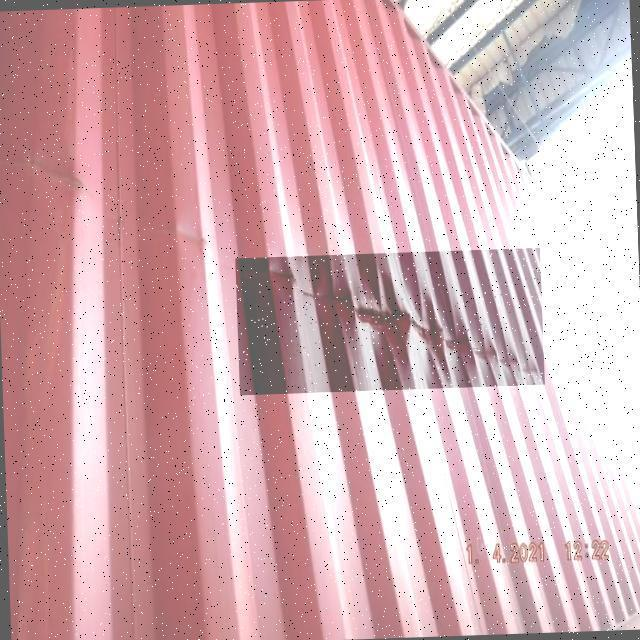dent: (236, 248, 546, 396)
